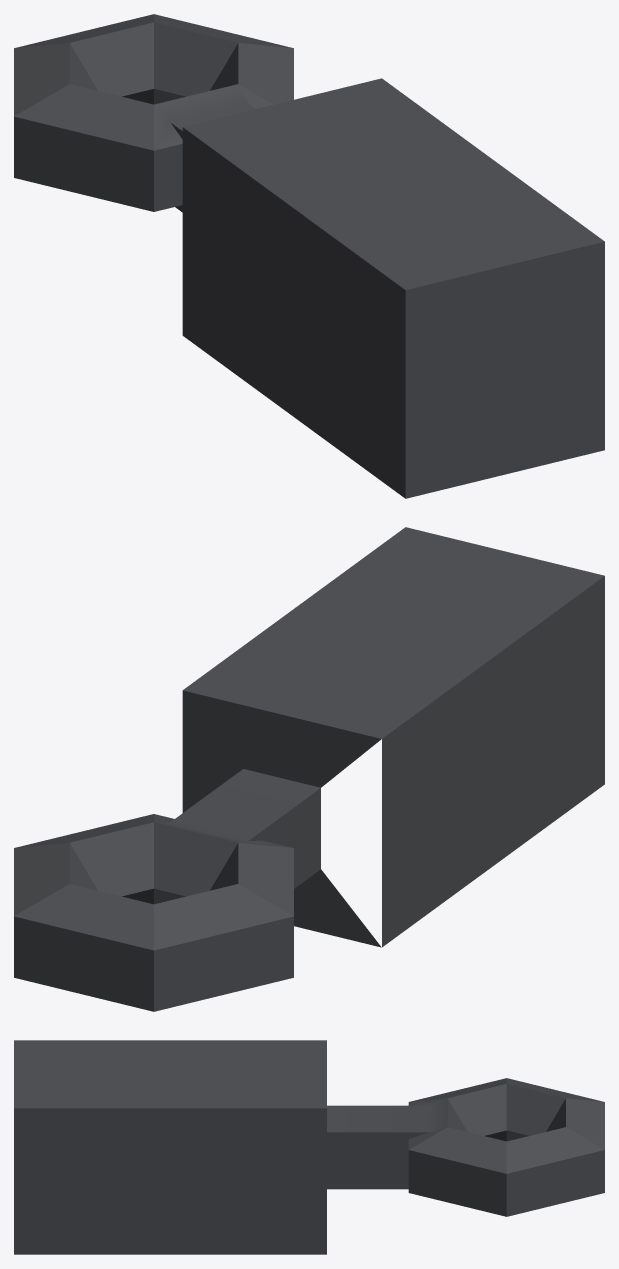
3 renders of one model, top to bottom at view 1: azimuth 30°, elevation 25°; view 2: azimuth 150°, elevation 25°; view 3: azimuth 270°, elevation 25°, orthographic. The views are drawn at different scales.
Visible parts, largest first — view 1: Hitch1; view 2: Hitch1; view 3: Hitch1.
Part boxes in pixels (x1=…): Hitch1: x1=14, y1=14, x2=604, y2=498; Hitch1: x1=14, y1=527, x2=604, y2=1011; Hitch1: x1=14, y1=1040, x2=604, y2=1254.
Bounding box in the file's own units: 16.85 × 12 × 43.93.
1 material, 1 textured.
